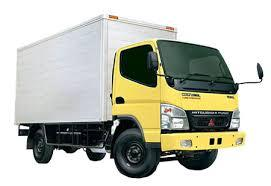truck: (107, 34, 268, 161)
